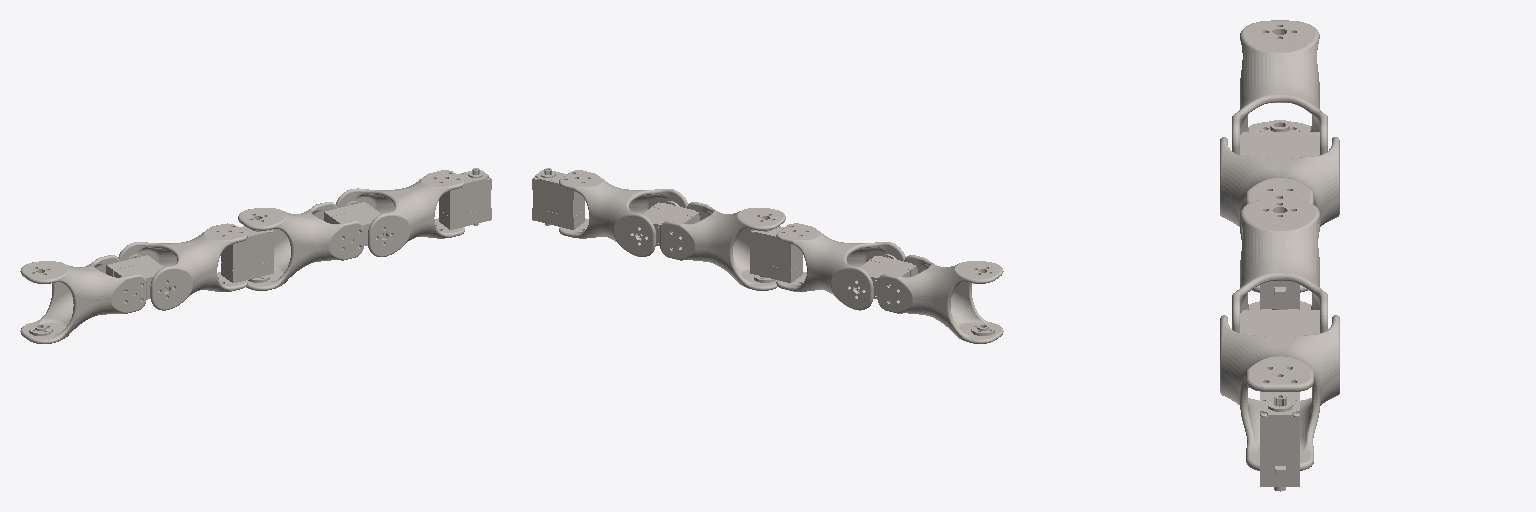
robot.urdf — snake_with_wheel:
<?xml version="1.0" encoding="utf-8"?>
<!-- This URDF was automatically created by SolidWorks to URDF Exporter! Originally created by [author] ([email redacted]) 
     Commit Version: 1.5.1-0-g916b5db  Build Version: 1.5.7152.31018
     For more information, please see http://wiki.ros.org/sw_urdf_exporter -->
<robot
  name="snake_with_wheel">
  <link
    name="base_link">
    <inertial>
      <origin
        xyz="0.046756 -3.0974E-05 -0.0042756"
        rpy="0 0 0" />
      <mass
        value="0.15651" />
      <inertia
        ixx="6.9082E-05"
        ixy="-8.9347E-08"
        ixz="1.2498E-06"
        iyy="0.00011157"
        iyz="-1.7714E-09"
        izz="9.5319E-05" />
    </inertial>
    <visual>
      <origin
        xyz="0 0 0"
        rpy="0 0 0" />
      <geometry>
        <mesh
          filename="package://snake_with_wheel/meshes/base_link.STL" />
      </geometry>
      <material
        name="">
        <color
          rgba="0.18431 0.73333 1 1" />
      </material>
    </visual>
    <collision>
      <origin
        xyz="0 0 0"
        rpy="0 0 0" />
      <geometry>
        <mesh
          filename="package://snake_with_wheel/meshes/base_link.STL" />
      </geometry>
    </collision>
  </link>
  <link
    name="Wheel_1">
    <inertial>
      <origin
        xyz="-2.7756E-17 1.0582E-16 3.4694E-18"
        rpy="0 0 0" />
      <mass
        value="0.019471" />
      <inertia
        ixx="4.07E-06"
        ixy="-8.4946E-21"
        ixz="9.3271E-24"
        iyy="2.7774E-06"
        iyz="1.1729E-11"
        izz="4.07E-06" />
    </inertial>
    <visual>
      <origin
        xyz="0 0 0"
        rpy="0 0 0" />
      <geometry>
        <mesh
          filename="package://snake_with_wheel/meshes/Wheel_1.STL" />
      </geometry>
      <material
        name="">
        <color
          rgba="0.79608 0.82353 0.93725 1" />
      </material>
    </visual>
    <collision>
      <origin
        xyz="0 0 0"
        rpy="0 0 0" />
      <geometry>
        <mesh
          filename="package://snake_with_wheel/meshes/Wheel_1.STL" />
      </geometry>
    </collision>
  </link>
  <joint
    name="Wheel_joint_1"
    type="continuous">
    <origin
      xyz="0.079 0 -0.03"
      rpy="0 0 0" />
    <parent
      link="base_link" />
    <child
      link="Wheel_1" />
    <axis
      xyz="0 1 0" />
    <limit
      lower="0"
      upper="0"
      effort="0"
      velocity="100" />
  </joint>
  <link
    name="Link_1">
    <inertial>
      <origin
        xyz="-0.028507 -0.00015484 -3.6726E-05"
        rpy="0 0 0" />
      <mass
        value="0.3569" />
      <inertia
        ixx="0.00010484"
        ixy="-4.4703E-09"
        ixz="1.6891E-07"
        iyy="0.0001602"
        iyz="2.9787E-10"
        izz="0.00014581" />
    </inertial>
    <visual>
      <origin
        xyz="0 0 0"
        rpy="0 0 0" />
      <geometry>
        <mesh
          filename="package://snake_with_wheel/meshes/Link_1.STL" />
      </geometry>
      <material
        name="">
        <color
          rgba="0.77647 0.75686 0.73725 1" />
      </material>
    </visual>
    <collision>
      <origin
        xyz="0 0 0"
        rpy="0 0 0" />
      <geometry>
        <mesh
          filename="package://snake_with_wheel/meshes/Link_1.STL" />
      </geometry>
    </collision>
  </link>
  <joint
    name="Joint_1"
    type="revolute">
    <origin
      xyz="0 0 0"
      rpy="0 0 0" />
    <parent
      link="base_link" />
    <child
      link="Link_1" />
    <axis
      xyz="0 0 -1" />
    <limit
      lower="-1.5"
      upper="1.5"
      effort="100"
      velocity="20" />
  </joint>
  <link
    name="Link_2">
    <inertial>
      <origin
        xyz="-0.029095 -0.0018076 -1.6348E-05"
        rpy="0 0 0" />
      <mass
        value="0.40492" />
      <inertia
        ixx="0.00011158"
        ixy="1.2455E-06"
        ixz="1.6891E-07"
        iyy="0.00016276"
        iyz="2.9842E-10"
        izz="0.00015263" />
    </inertial>
    <visual>
      <origin
        xyz="0 0 0"
        rpy="0 0 0" />
      <geometry>
        <mesh
          filename="package://snake_with_wheel/meshes/Link_2.STL" />
      </geometry>
      <material
        name="">
        <color
          rgba="0.77647 0.75686 0.73725 1" />
      </material>
    </visual>
    <collision>
      <origin
        xyz="0 0 0"
        rpy="0 0 0" />
      <geometry>
        <mesh
          filename="package://snake_with_wheel/meshes/Link_2.STL" />
      </geometry>
    </collision>
  </link>
  <joint
    name="Joint_2"
    type="revolute">
    <origin
      xyz="-0.1059 -0.00015556 0"
      rpy="1.5708 0 0" />
    <parent
      link="Link_1" />
    <child
      link="Link_2" />
    <axis
      xyz="0 0 -1" />
    <limit
      lower="-1.5"
      upper="1.5"
      effort="100"
      velocity="20" />
  </joint>
  <link
    name="Wheel_2">
    <inertial>
      <origin
        xyz="-5.5511E-17 3.1225E-17 1.9082E-17"
        rpy="0 0 0" />
      <mass
        value="0.019471" />
      <inertia
        ixx="4.07E-06"
        ixy="-8.6034E-21"
        ixz="2.935E-23"
        iyy="2.7774E-06"
        iyz="1.1729E-11"
        izz="4.07E-06" />
    </inertial>
    <visual>
      <origin
        xyz="0 0 0"
        rpy="0 0 0" />
      <geometry>
        <mesh
          filename="package://snake_with_wheel/meshes/Wheel_2.STL" />
      </geometry>
      <material
        name="">
        <color
          rgba="0.79608 0.82353 0.93725 1" />
      </material>
    </visual>
    <collision>
      <origin
        xyz="0 0 0"
        rpy="0 0 0" />
      <geometry>
        <mesh
          filename="package://snake_with_wheel/meshes/Wheel_2.STL" />
      </geometry>
    </collision>
  </link>
  <joint
    name="Wheel_joint_2"
    type="continuous">
    <origin
      xyz="-0.0269 -0.030156 0"
      rpy="-1.5708 0 0" />
    <parent
      link="Link_2" />
    <child
      link="Wheel_2" />
    <axis
      xyz="0 1 0" />
    <limit
      lower="0"
      upper="0"
      effort="0"
      velocity="100" />
  </joint>
  <link
    name="Link_3">
    <inertial>
      <origin
        xyz="-0.028507 -0.00015484 -3.6726E-05"
        rpy="0 0 0" />
      <mass
        value="0.3569" />
      <inertia
        ixx="0.00010484"
        ixy="-4.4703E-09"
        ixz="1.6891E-07"
        iyy="0.0001602"
        iyz="2.9787E-10"
        izz="0.00014581" />
    </inertial>
    <visual>
      <origin
        xyz="0 0 0"
        rpy="0 0 0" />
      <geometry>
        <mesh
          filename="package://snake_with_wheel/meshes/Link_3.STL" />
      </geometry>
      <material
        name="">
        <color
          rgba="0.77647 0.75686 0.73725 1" />
      </material>
    </visual>
    <collision>
      <origin
        xyz="0 0 0"
        rpy="0 0 0" />
      <geometry>
        <mesh
          filename="package://snake_with_wheel/meshes/Link_3.STL" />
      </geometry>
    </collision>
  </link>
  <joint
    name="Joint_3"
    type="revolute">
    <origin
      xyz="-0.1059 -0.00015556 0"
      rpy="-1.5708 0 0" />
    <parent
      link="Link_2" />
    <child
      link="Link_3" />
    <axis
      xyz="0 0 -1" />
    <limit
      lower="-1.5"
      upper="1.5"
      effort="100"
      velocity="20" />
  </joint>
  <link
    name="Link_4">
    <inertial>
      <origin
        xyz="-0.029095 -0.0018076 -1.6348E-05"
        rpy="0 0 0" />
      <mass
        value="0.40492" />
      <inertia
        ixx="0.00011158"
        ixy="1.2455E-06"
        ixz="1.6891E-07"
        iyy="0.00016276"
        iyz="2.9842E-10"
        izz="0.00015263" />
    </inertial>
    <visual>
      <origin
        xyz="0 0 0"
        rpy="0 0 0" />
      <geometry>
        <mesh
          filename="package://snake_with_wheel/meshes/Link_4.STL" />
      </geometry>
      <material
        name="">
        <color
          rgba="0.77647 0.75686 0.73725 1" />
      </material>
    </visual>
    <collision>
      <origin
        xyz="0 0 0"
        rpy="0 0 0" />
      <geometry>
        <mesh
          filename="package://snake_with_wheel/meshes/Link_4.STL" />
      </geometry>
    </collision>
  </link>
  <joint
    name="Joint_4"
    type="revolute">
    <origin
      xyz="-0.1059 -0.00015556 0"
      rpy="1.5708 0 0" />
    <parent
      link="Link_3" />
    <child
      link="Link_4" />
    <axis
      xyz="0 0 -1" />
    <limit
      lower="-1.5"
      upper="1.5"
      effort="100"
      velocity="20" />
  </joint>
  <link
    name="Wheel_3">
    <inertial>
      <origin
        xyz="0 -5.8981E-17 -1.7347E-17"
        rpy="0 0 0" />
      <mass
        value="0.019471" />
      <inertia
        ixx="4.07E-06"
        ixy="-8.4805E-21"
        ixz="-2.8992E-23"
        iyy="2.7774E-06"
        iyz="1.1729E-11"
        izz="4.07E-06" />
    </inertial>
    <visual>
      <origin
        xyz="0 0 0"
        rpy="0 0 0" />
      <geometry>
        <mesh
          filename="package://snake_with_wheel/meshes/Wheel_3.STL" />
      </geometry>
      <material
        name="">
        <color
          rgba="0.79608 0.82353 0.93725 1" />
      </material>
    </visual>
    <collision>
      <origin
        xyz="0 0 0"
        rpy="0 0 0" />
      <geometry>
        <mesh
          filename="package://snake_with_wheel/meshes/Wheel_3.STL" />
      </geometry>
    </collision>
  </link>
  <joint
    name="Wheel_joint_3"
    type="continuous">
    <origin
      xyz="-0.0269 -0.030156 0"
      rpy="-1.5708 0 0" />
    <parent
      link="Link_4" />
    <child
      link="Wheel_3" />
    <axis
      xyz="0 1 0" />
    <limit
      lower="0"
      upper="0"
      effort="0"
      velocity="100" />
  </joint>
  <link
    name="Link_5">
    <inertial>
      <origin
        xyz="-0.028507 -0.00015484 -3.6726E-05"
        rpy="0 0 0" />
      <mass
        value="0.3569" />
      <inertia
        ixx="0.00010484"
        ixy="-4.4703E-09"
        ixz="1.6891E-07"
        iyy="0.0001602"
        iyz="2.9787E-10"
        izz="0.00014581" />
    </inertial>
    <visual>
      <origin
        xyz="0 0 0"
        rpy="0 0 0" />
      <geometry>
        <mesh
          filename="package://snake_with_wheel/meshes/Link_5.STL" />
      </geometry>
      <material
        name="">
        <color
          rgba="0.77647 0.75686 0.73725 1" />
      </material>
    </visual>
    <collision>
      <origin
        xyz="0 0 0"
        rpy="0 0 0" />
      <geometry>
        <mesh
          filename="package://snake_with_wheel/meshes/Link_5.STL" />
      </geometry>
    </collision>
  </link>
  <joint
    name="Joint_5"
    type="revolute">
    <origin
      xyz="-0.1059 -0.00015556 0"
      rpy="-1.5708 0 0" />
    <parent
      link="Link_4" />
    <child
      link="Link_5" />
    <axis
      xyz="0 0 -1" />
    <limit
      lower="-1.5"
      upper="1.5"
      effort="100"
      velocity="20" />
  </joint>
  <link
    name="Link_6">
    <inertial>
      <origin
        xyz="-0.028325 -0.0018242 -1.6512E-05"
        rpy="0 0 0" />
      <mass
        value="0.4009" />
      <inertia
        ixx="0.00011148"
        ixy="1.2455E-06"
        ixz="1.6891E-07"
        iyy="0.00016256"
        iyz="2.9842E-10"
        izz="0.00015252" />
    </inertial>
    <visual>
      <origin
        xyz="0 0 0"
        rpy="0 0 0" />
      <geometry>
        <mesh
          filename="package://snake_with_wheel/meshes/Link_6.STL" />
      </geometry>
      <material
        name="">
        <color
          rgba="0.77647 0.75686 0.73725 1" />
      </material>
    </visual>
    <collision>
      <origin
        xyz="0 0 0"
        rpy="0 0 0" />
      <geometry>
        <mesh
          filename="package://snake_with_wheel/meshes/Link_6.STL" />
      </geometry>
    </collision>
  </link>
  <joint
    name="Joint_6"
    type="revolute">
    <origin
      xyz="-0.1059 -0.00015556 0"
      rpy="1.5708 0 0" />
    <parent
      link="Link_5" />
    <child
      link="Link_6" />
    <axis
      xyz="0 0 -1" />
    <limit
      lower="-1.5"
      upper="1.5"
      effort="100"
      velocity="20" />
  </joint>
  <link
    name="Wheel_4">
    <inertial>
      <origin
        xyz="0 1.9602E-16 -9.8879E-17"
        rpy="0 0 0" />
      <mass
        value="0.019471" />
      <inertia
        ixx="4.07E-06"
        ixy="8.5024E-21"
        ixz="2.5762E-23"
        iyy="2.7774E-06"
        iyz="1.1729E-11"
        izz="4.07E-06" />
    </inertial>
    <visual>
      <origin
        xyz="0 0 0"
        rpy="0 0 0" />
      <geometry>
        <mesh
          filename="package://snake_with_wheel/meshes/Wheel_4.STL" />
      </geometry>
      <material
        name="">
        <color
          rgba="0.79608 0.82353 0.93725 1" />
      </material>
    </visual>
    <collision>
      <origin
        xyz="0 0 0"
        rpy="0 0 0" />
      <geometry>
        <mesh
          filename="package://snake_with_wheel/meshes/Wheel_4.STL" />
      </geometry>
    </collision>
  </link>
  <joint
    name="Wheel_joint_4"
    type="continuous">
    <origin
      xyz="-0.0269 -0.030156 0"
      rpy="-1.5708 0 0" />
    <parent
      link="Link_6" />
    <child
      link="Wheel_4" />
    <axis
      xyz="0 1 0" />
    <limit
      lower="0"
      upper="0"
      effort="0"
      velocity="100" />
  </joint>
</robot>

--- Render facts (derived) ---
The picture shows the robot from 3 angles, left to right: view 1: azimuth 30°, elevation 25°; view 2: azimuth 150°, elevation 25°; view 3: azimuth 270°, elevation 25°; orthographic projection.
Robot: snake_with_wheel — 11 links, 10 joints (6 revolute, 4 continuous); root link base_link; default pose: all joints at 0.
Visible links, largest first — view 1: Link_3, Link_5, Link_6, Link_4; view 2: Link_3, Link_5, Link_6, Link_4; view 3: Link_3, Link_6, Link_4, Link_5.
Link boxes in pixels (left/top/right/bottom): Link_3: left=336, top=168, right=491, bottom=256; Link_5: left=118, top=223, right=273, bottom=310; Link_6: left=20, top=255, right=167, bottom=343; Link_4: left=238, top=202, right=384, bottom=290; Link_3: left=532, top=168, right=687, bottom=256; Link_5: left=750, top=223, right=905, bottom=310; Link_6: left=856, top=255, right=1003, bottom=343; Link_4: left=639, top=202, right=785, bottom=290; Link_3: left=1220, top=315, right=1339, bottom=491; Link_6: left=1232, top=20, right=1327, bottom=158; Link_4: left=1232, top=199, right=1327, bottom=336; Link_5: left=1220, top=137, right=1339, bottom=308.
Bounding box of the posed robot: 0.4522 × 0.0602 × 0.0602 m (x, y, z).
4 mesh visuals loaded from 11 distinct referenced files (4 binary STL); not drawn: 7 (reference not matched to a file when rendering).